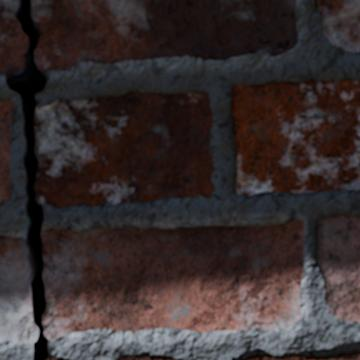brick: (35, 91, 213, 207), (231, 80, 359, 195), (317, 215, 359, 321), (316, 0, 359, 51), (0, 100, 12, 203), (245, 352, 359, 359), (120, 356, 175, 359)
broken_brick: (42, 219, 304, 340), (33, 0, 298, 72), (0, 235, 36, 343), (0, 0, 26, 75)
crack: (2, 0, 50, 359)
